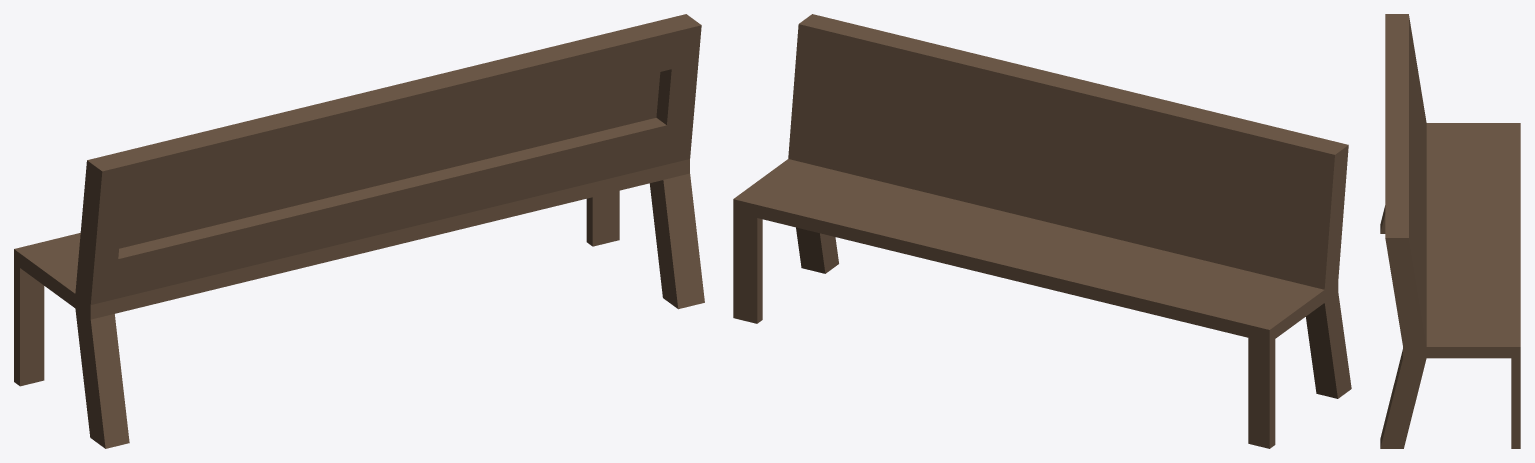
Rendered from Asiento.fbx.
3 views of the same model, side by side, from view 1: azimuth 30°, elevation 25°; view 2: azimuth 150°, elevation 25°; view 3: azimuth 270°, elevation 25° (orthographic). The views are drawn at different scales.
Parts seen in each view (by area): view 1: asiento; view 2: asiento; view 3: asiento.
Boxes of the visible parts, x1,y1,x2,y2 form: asiento: (14,14,704,448); asiento: (733,14,1351,448); asiento: (1380,14,1520,448).
Size of the model in its own units: 9.01 by 3.95 by 2.38.
